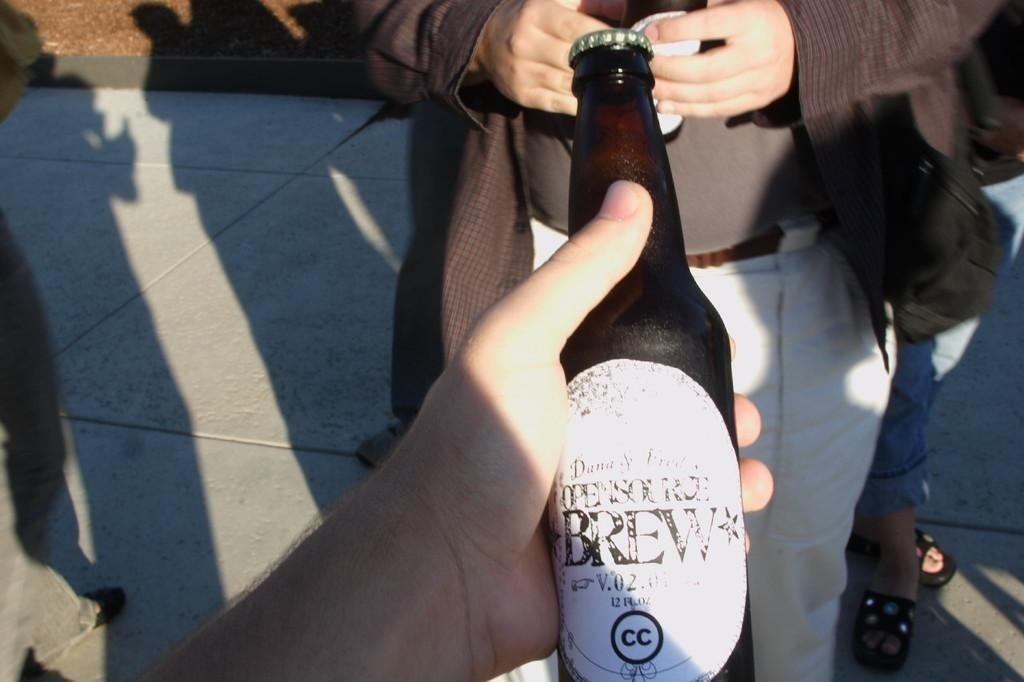bottle-glass: (546, 25, 753, 680)
